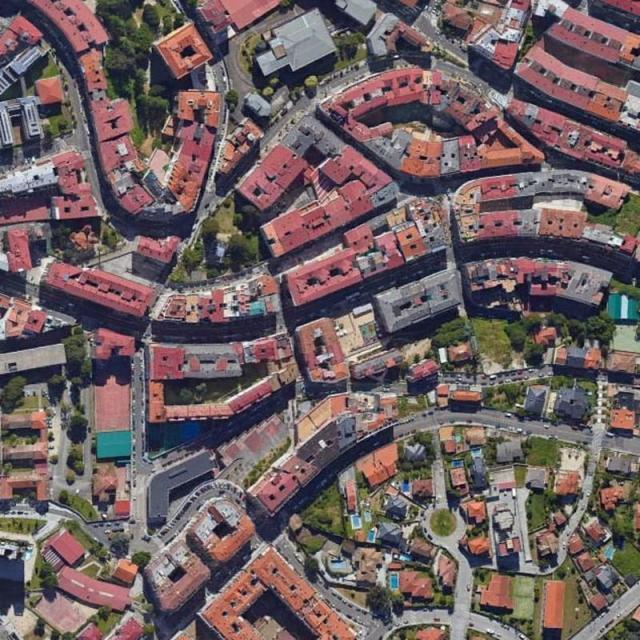vehicle: (346, 292, 362, 299), (547, 371, 555, 376), (507, 426, 516, 430), (490, 374, 497, 379), (518, 376, 524, 381), (102, 529, 109, 533), (104, 522, 111, 526), (378, 285, 383, 290), (390, 280, 395, 285), (543, 425, 549, 429), (498, 380, 503, 384), (513, 377, 518, 381), (505, 414, 511, 417), (482, 382, 486, 386), (506, 379, 510, 383), (482, 375, 486, 379), (529, 369, 534, 372), (537, 374, 542, 377), (442, 374, 447, 377), (518, 371, 522, 374)
